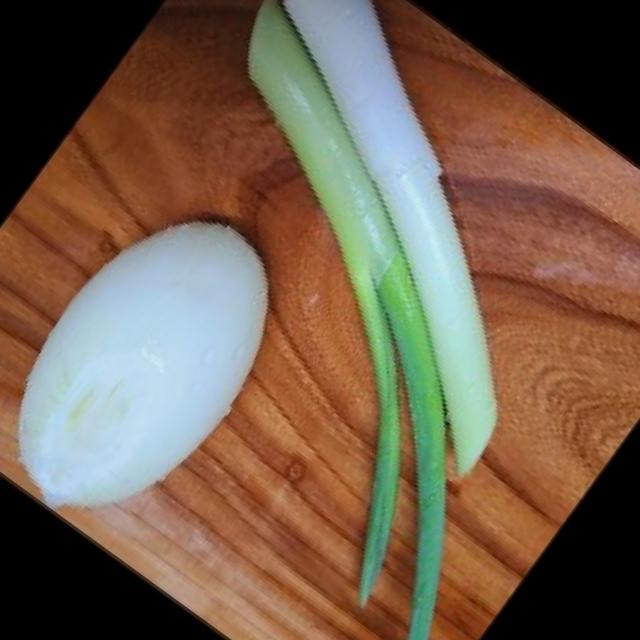Onion: (23, 222, 272, 507)
